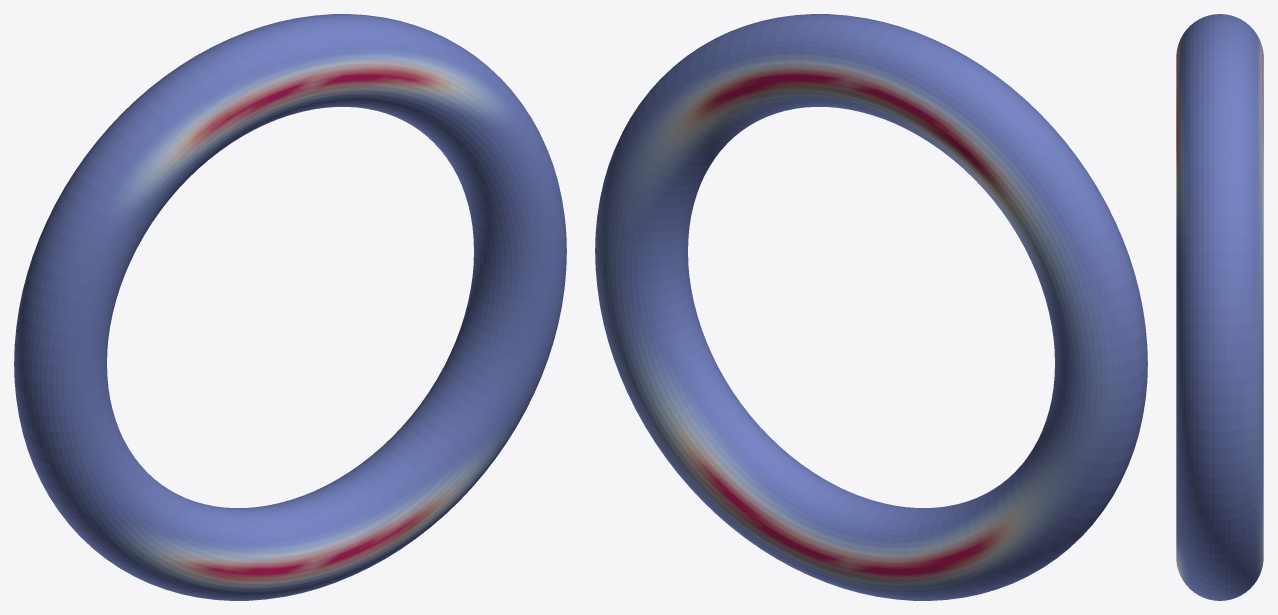
3 views of the same model, side by side, from view 1: azimuth 30°, elevation 25°; view 2: azimuth 150°, elevation 25°; view 3: azimuth 270°, elevation 25° (orthographic). The views are drawn at different scales.
Visible parts, largest first — view 1: world; view 2: world; view 3: world.
Part boxes in pixels (left/top/right/bottom): world: left=14, top=14, right=566, bottom=600; world: left=595, top=14, right=1147, bottom=600; world: left=1176, top=14, right=1263, bottom=600.
Bounding box in the file's own units: 18.8 × 18.8 × 2.79.
